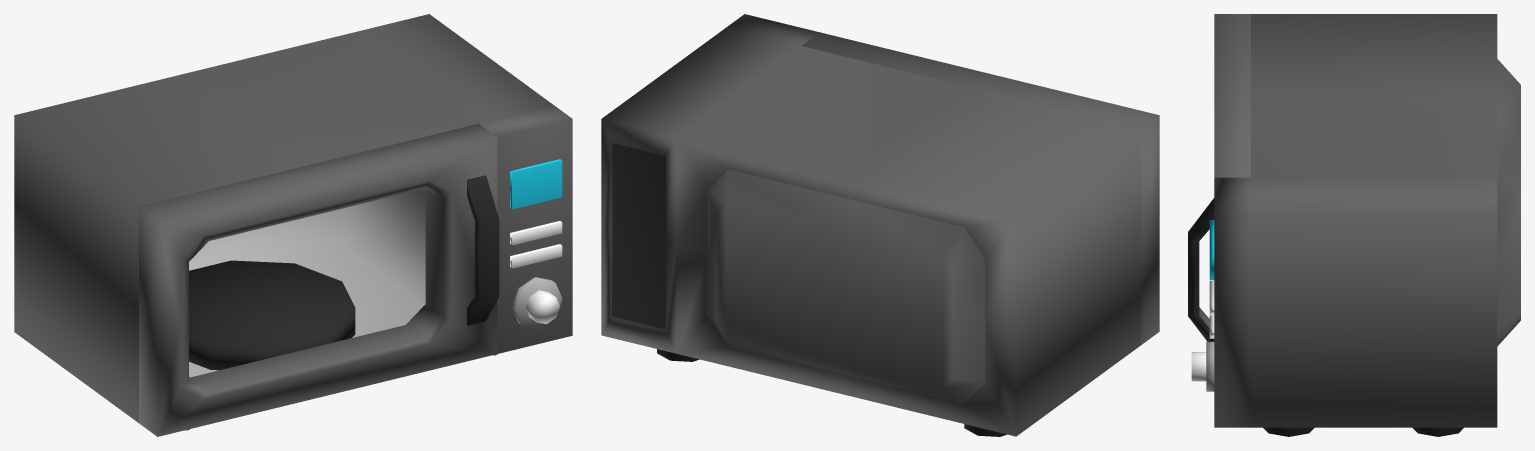
The model's file is mesh_microwave.fbx.
3 views of the same model, side by side, from view 1: azimuth 30°, elevation 25°; view 2: azimuth 150°, elevation 25°; view 3: azimuth 270°, elevation 25° (orthographic).
Parts seen in each view (by area): view 1: mesh_tech_microwave_body_01, mesh_tech_microwave_door_01; view 2: mesh_tech_microwave_body_01, mesh_tech_microwave_door_01; view 3: mesh_tech_microwave_body_01, mesh_tech_microwave_door_01.
Boxes of the visible parts, x1,y1,x2,y2 form: mesh_tech_microwave_body_01: (14, 14, 572, 430); mesh_tech_microwave_door_01: (139, 123, 499, 436); mesh_tech_microwave_body_01: (601, 14, 1140, 436); mesh_tech_microwave_door_01: (802, 32, 1159, 344); mesh_tech_microwave_body_01: (1191, 14, 1520, 436); mesh_tech_microwave_door_01: (1188, 14, 1250, 341).
Bounding box in the file's own units: 16.47 × 9.1 × 11.59.
